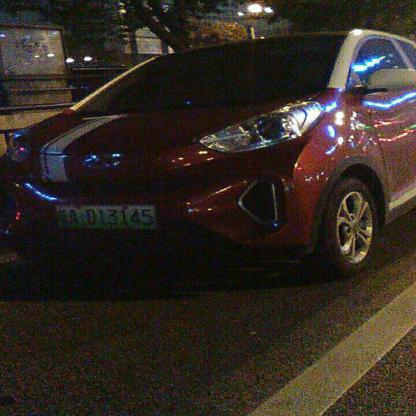lp: (57, 204, 60, 228)
